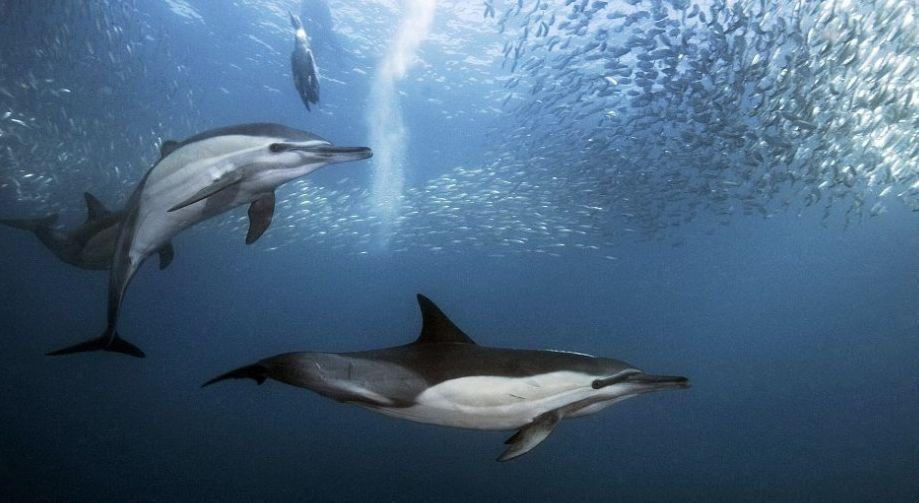fish: (201, 290, 692, 458), (49, 113, 380, 360)
